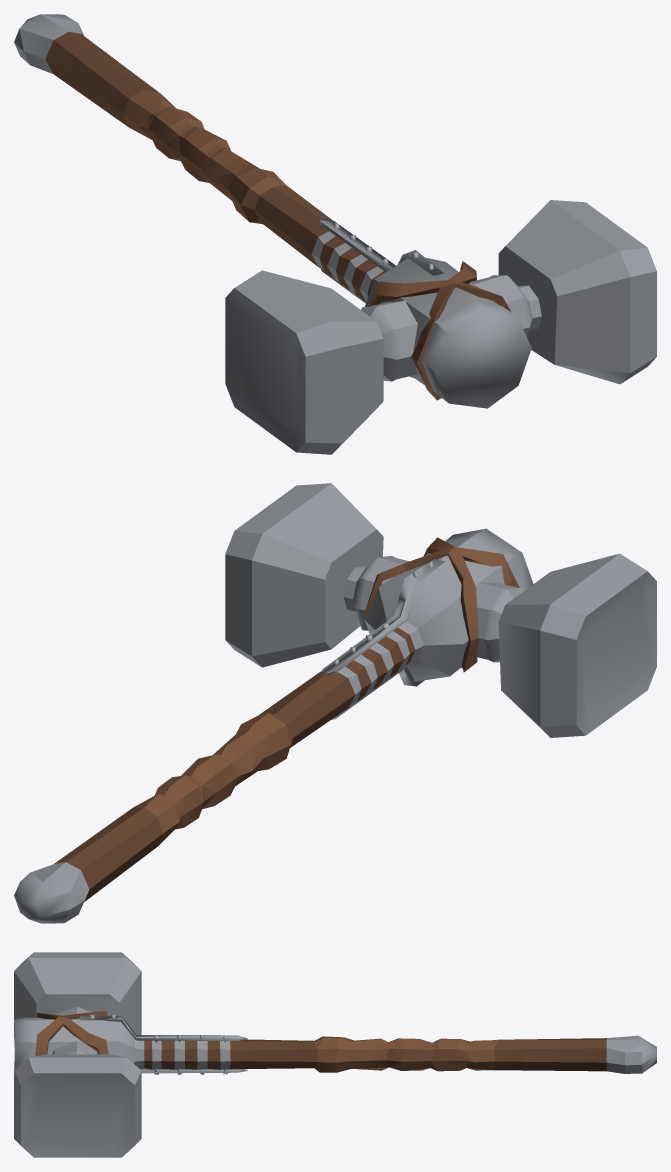
Rendered from warhammer.glb.
3 renders of one model, top to bottom at view 1: azimuth 30°, elevation 25°; view 2: azimuth 150°, elevation 25°; view 3: azimuth 270°, elevation 25°, orthographic. The views are drawn at different scales.
Visible parts, largest first — view 1: Hammer_Double_Cylinder.008; view 2: Hammer_Double_Cylinder.008; view 3: Hammer_Double_Cylinder.008.
Boxes of the visible parts, bbox=[...] form: Hammer_Double_Cylinder.008: bbox=[14, 14, 656, 454]; Hammer_Double_Cylinder.008: bbox=[14, 483, 656, 923]; Hammer_Double_Cylinder.008: bbox=[14, 952, 656, 1157].
Size of the model in its own units: 0.5764 by 0.2095 by 1.29.
